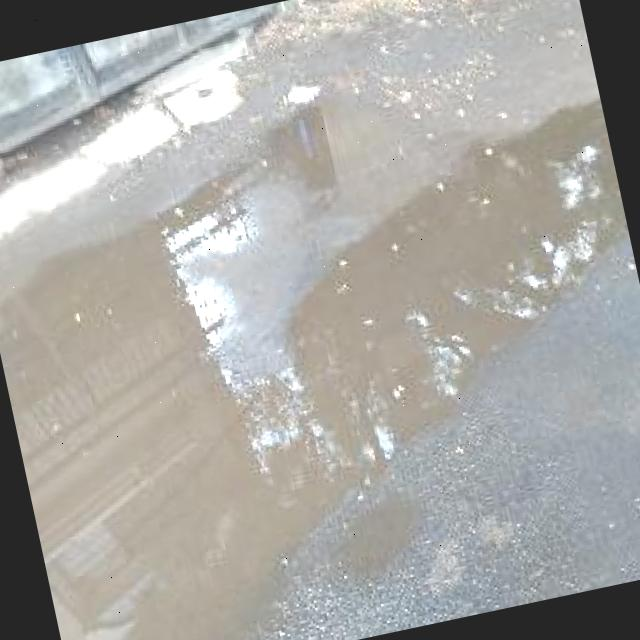waterlogging: (0, 14, 640, 631)
